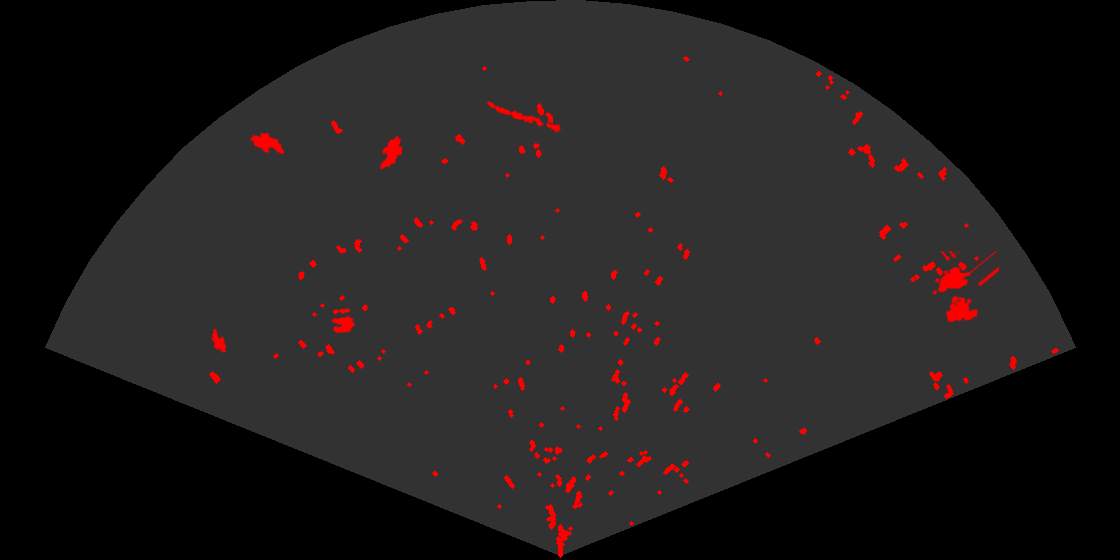AUV: (378, 134, 404, 171), (249, 131, 286, 156), (208, 327, 228, 355)
ball: (330, 307, 356, 335)
cage: (931, 251, 999, 324)
chain: (485, 100, 563, 134)
